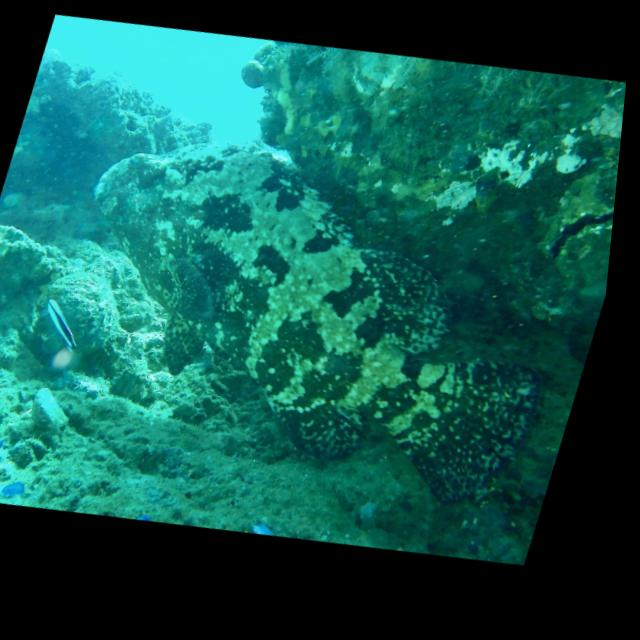Groupers: (0, 76, 620, 563)
